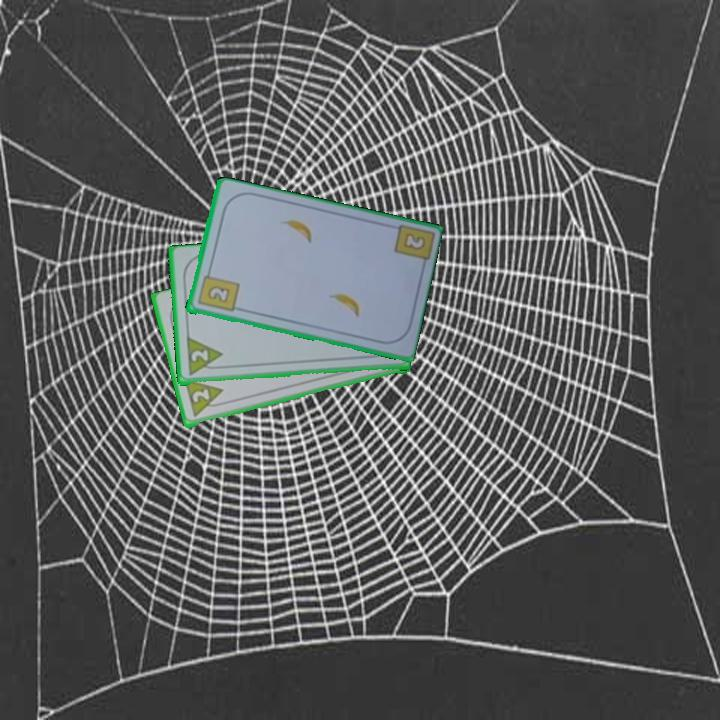2b: (194, 267, 241, 315), (402, 232, 426, 252)
2p: (181, 377, 228, 421), (187, 347, 211, 366)
